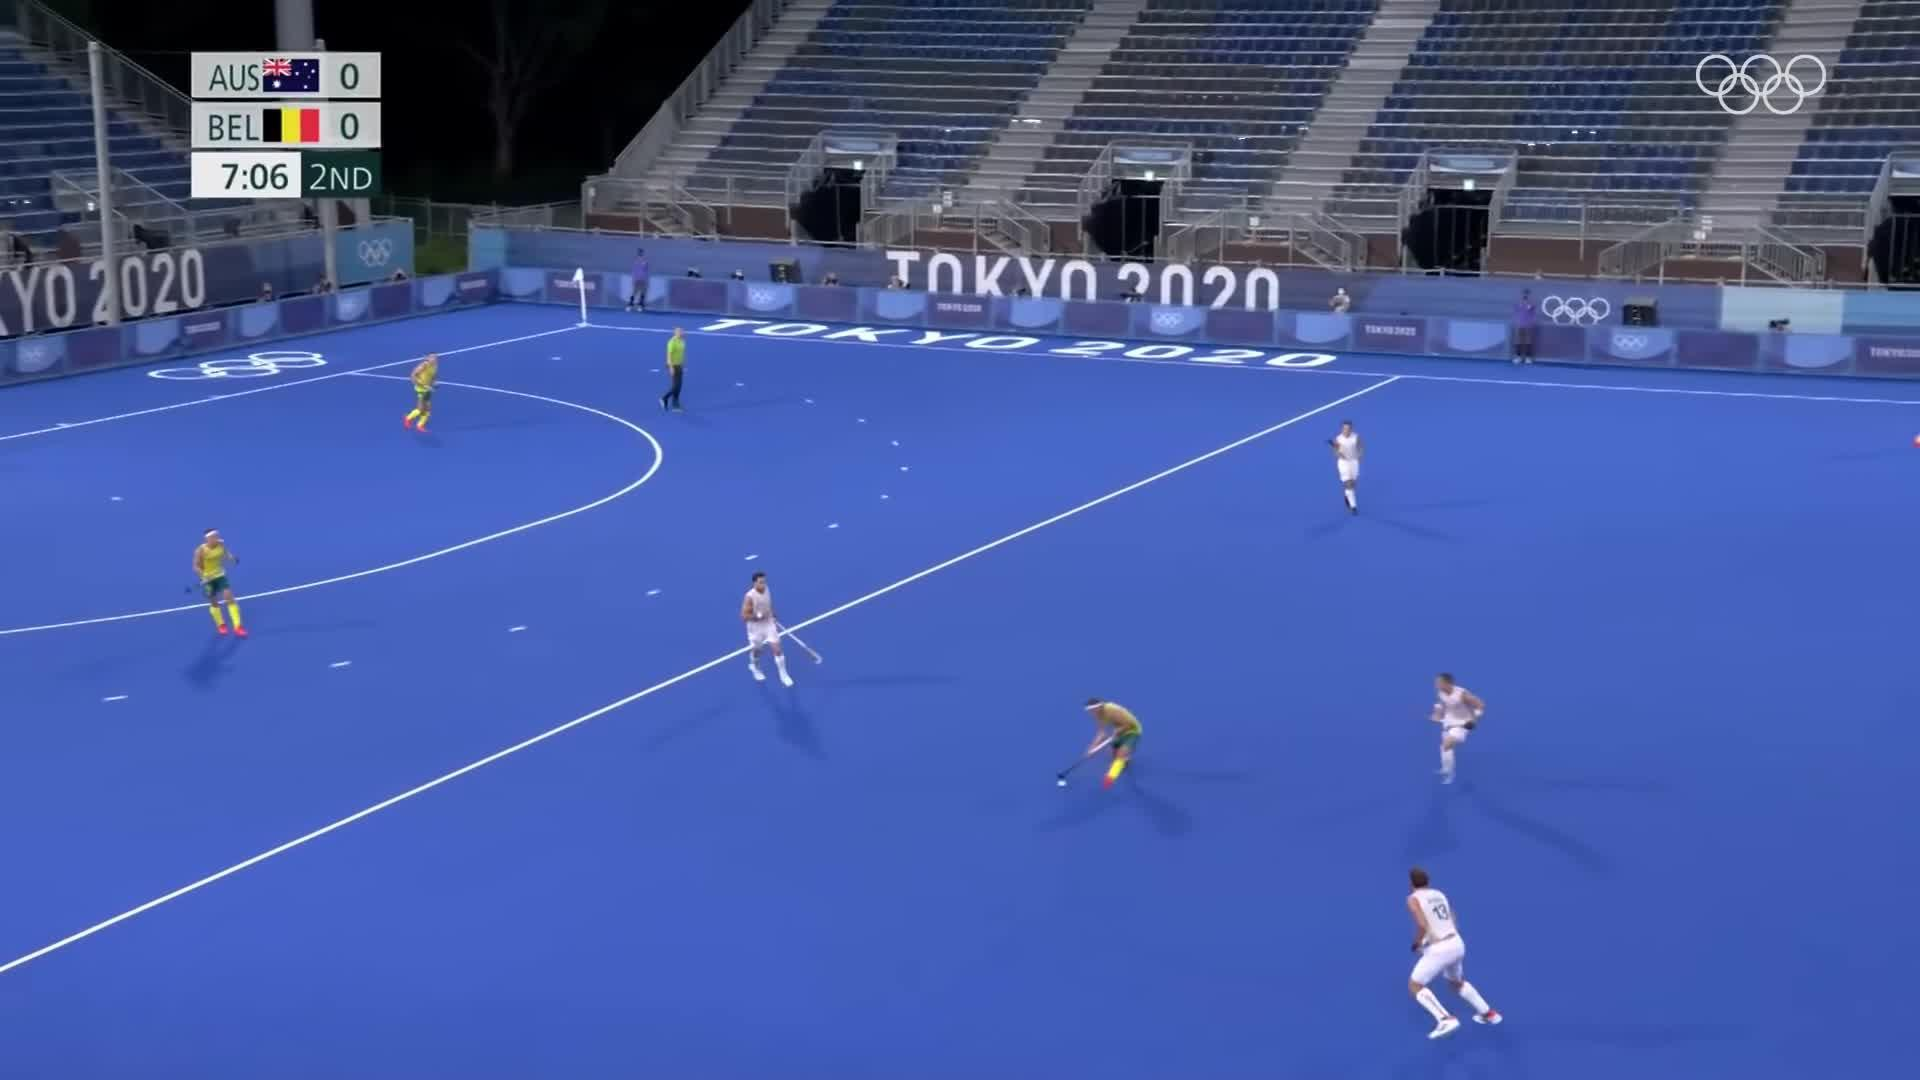ball: (1052, 773, 1069, 793)
